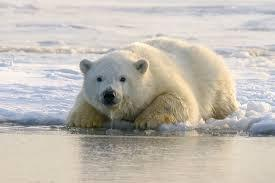bear: (68, 36, 238, 129)
